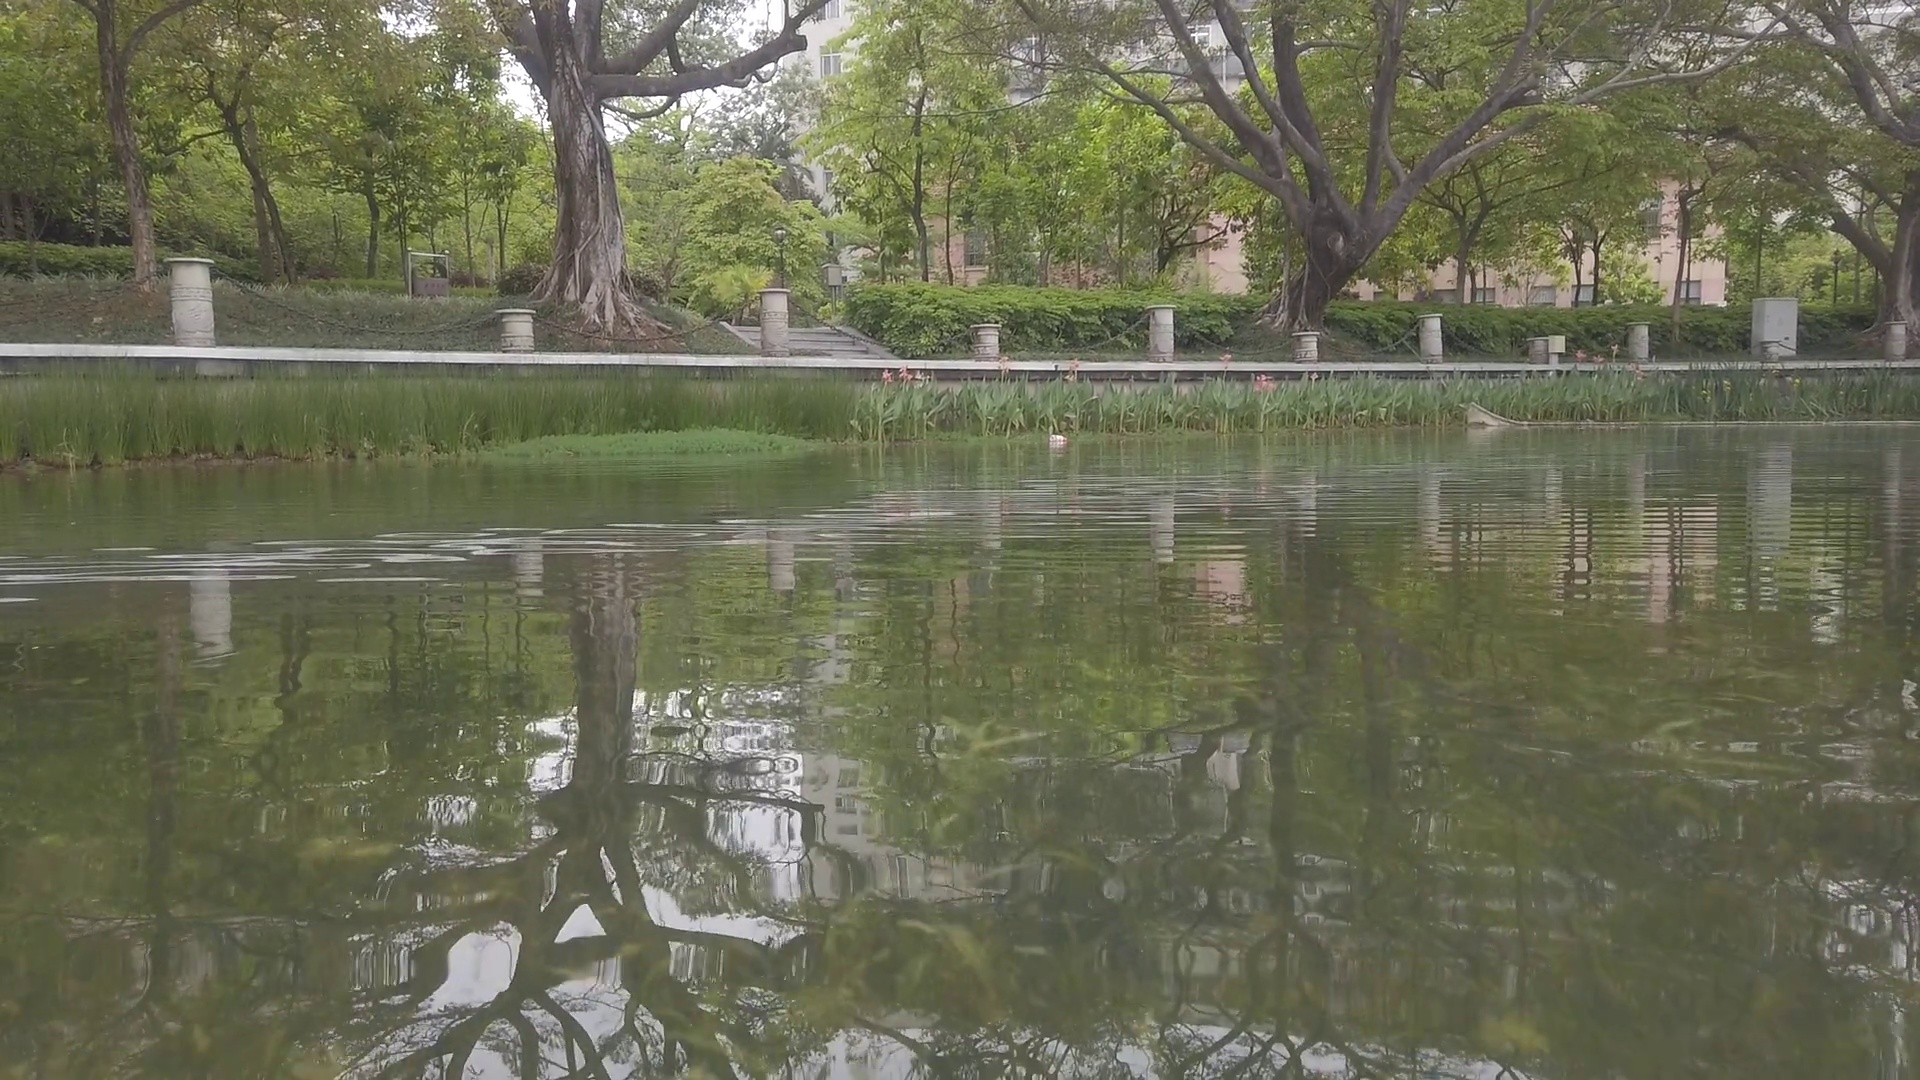bottle: (1048, 435, 1068, 442)
